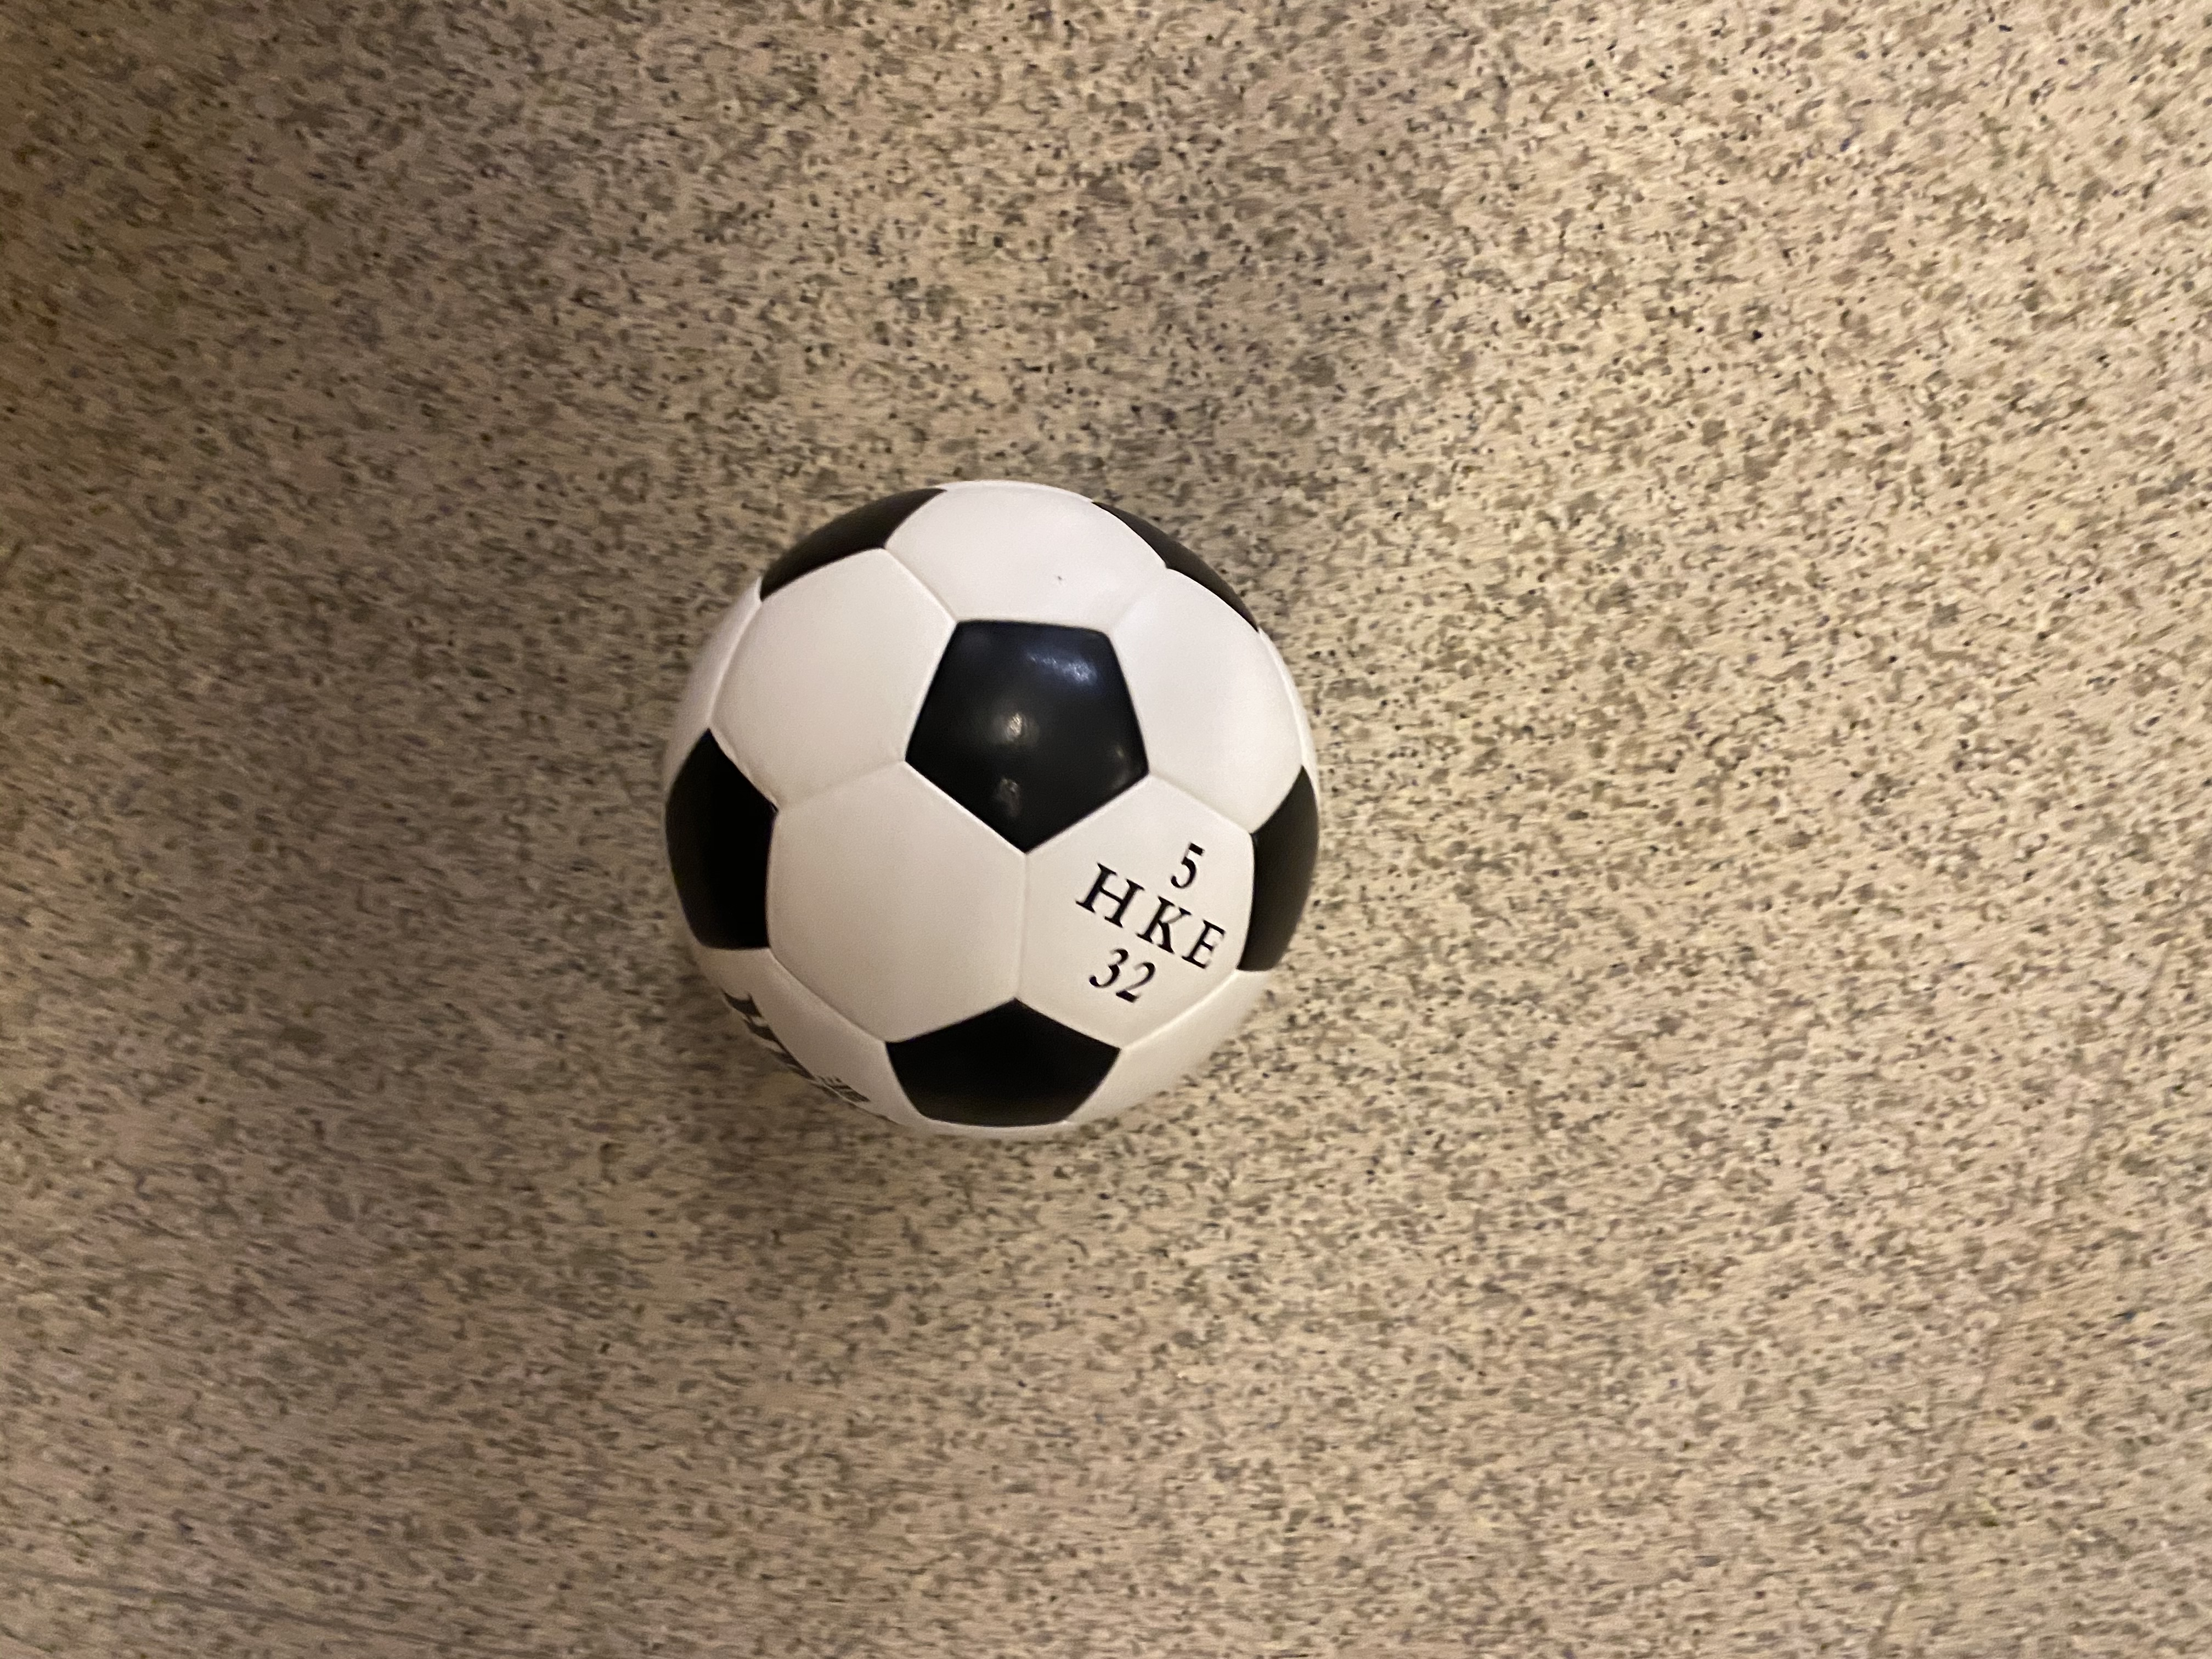football: (662, 471, 1318, 1131)
